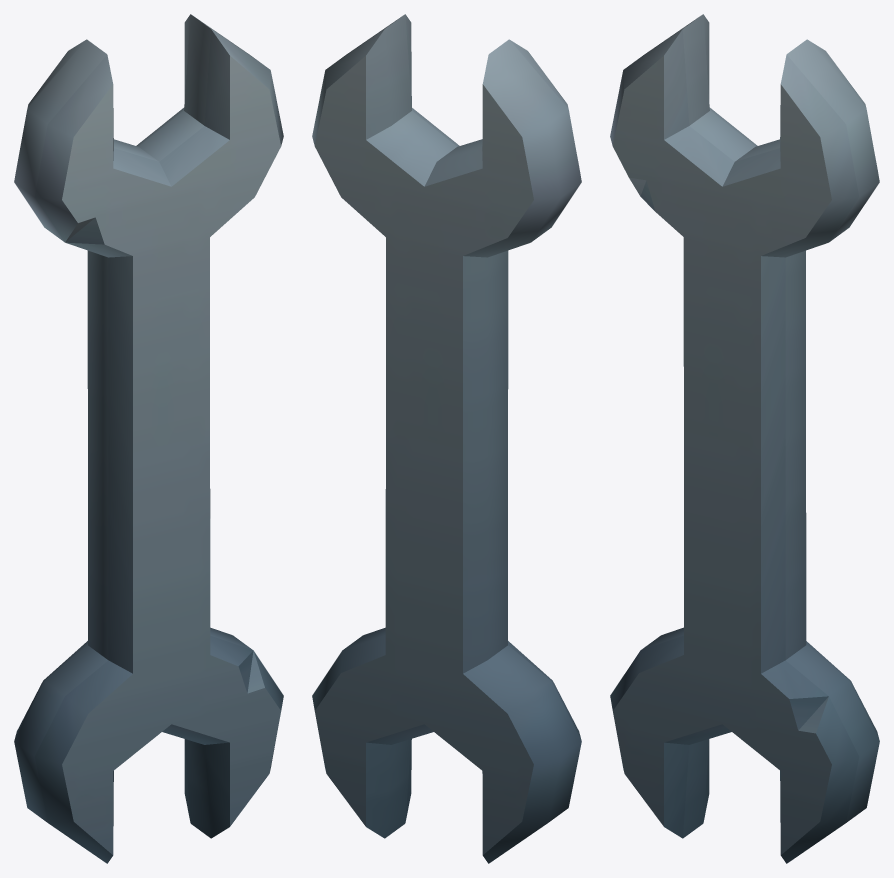
File: wrench_b.glb
The picture shows the model from 3 angles, left to right: view 1: azimuth 30°, elevation 25°; view 2: azimuth 150°, elevation 25°; view 3: azimuth 330°, elevation 25°; orthographic projection.
Visible parts, largest first — view 1: wrench_B; view 2: wrench_B; view 3: wrench_B.
Part boxes in pixels (box(x1,y1,x2,y2)): wrench_B: box(14, 14, 283, 863); wrench_B: box(312, 14, 581, 863); wrench_B: box(610, 14, 879, 863).
Bounding box in the file's own units: 0.2639 × 0.819 × 0.0829.
1 material, 1 textured.
